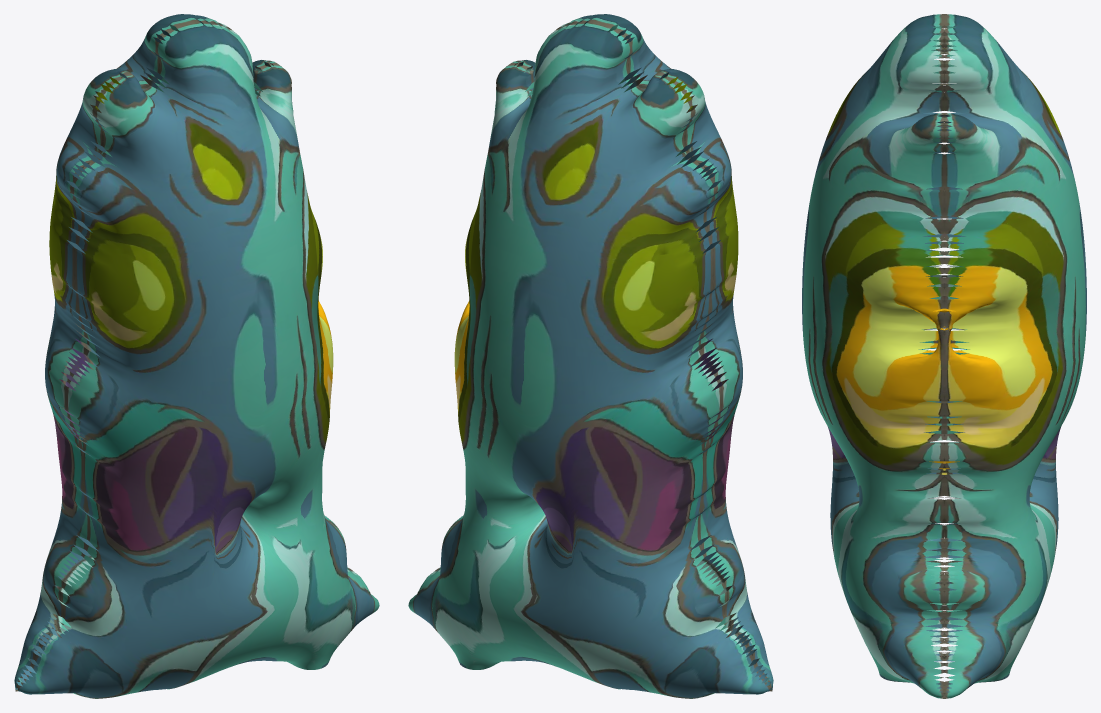
File: nodular_growth.glb
3 renders of one model, left to right at view 1: azimuth 30°, elevation 25°; view 2: azimuth 150°, elevation 25°; view 3: azimuth 270°, elevation 25°, orthographic. The views are drawn at different scales.
Parts seen in each view (by area): view 1: nodular_growth; view 2: nodular_growth; view 3: nodular_growth.
Boxes of the visible parts, <box> form: nodular_growth: <box>14,14,379,698</box>; nodular_growth: <box>408,14,773,698</box>; nodular_growth: <box>802,14,1086,698</box>.
Size of the model in its own units: 0.9746 by 1.66 by 0.7052.
1 material, 1 textured.
